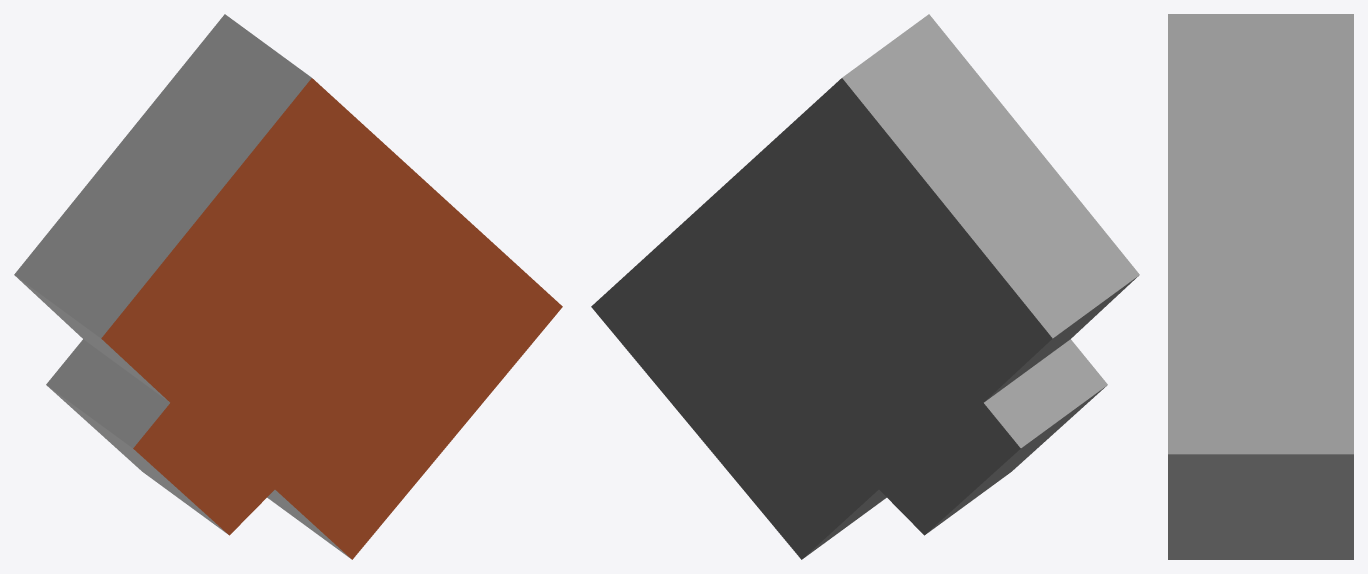
File: construction_1087_assumed_A_Casa_h6m.obj
3 views of the same model, side by side, from view 1: azimuth 30°, elevation 25°; view 2: azimuth 150°, elevation 25°; view 3: azimuth 270°, elevation 25° (orthographic). The views are drawn at different scales.
Visible parts, largest first — view 1: construction_1087_assumed_A_Casa; view 2: construction_1087_assumed_A_Casa; view 3: construction_1087_assumed_A_Casa.
Boxes of the visible parts, x1=… form: construction_1087_assumed_A_Casa: x1=14, y1=14, x2=562, y2=559; construction_1087_assumed_A_Casa: x1=591, y1=14, x2=1139, y2=559; construction_1087_assumed_A_Casa: x1=1168, y1=14, x2=1353, y2=559.
Size of the model in its own units: 18.35 by 18.69 by 6.
